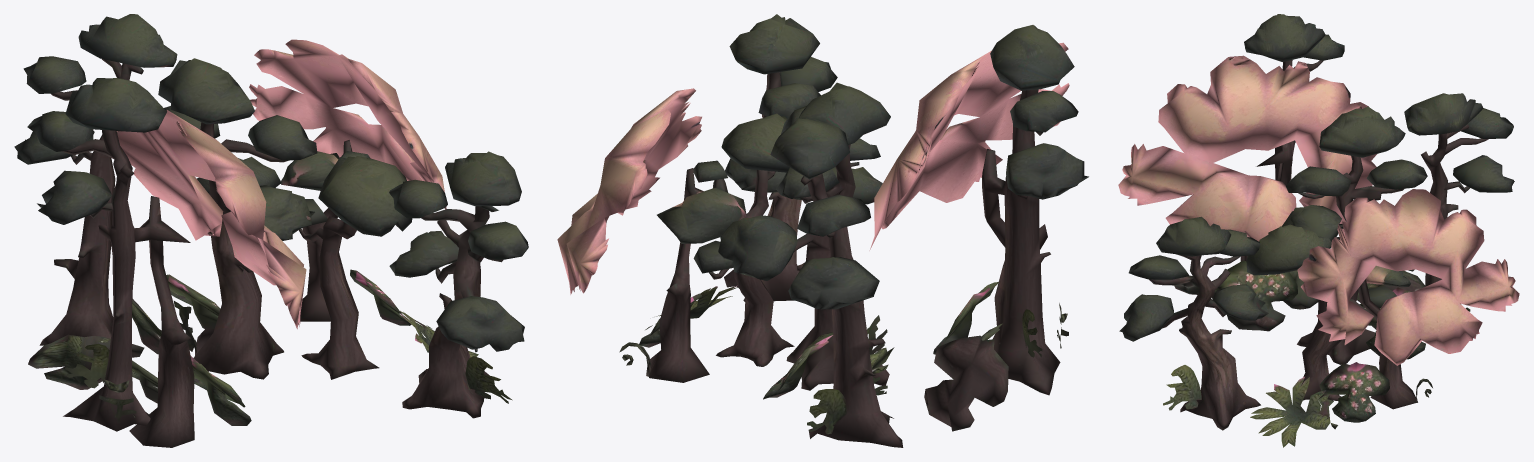
The model's file is mixed_spring_forest_cluster.glb.
3 views of the same model, side by side, from view 1: azimuth 30°, elevation 25°; view 2: azimuth 150°, elevation 25°; view 3: azimuth 270°, elevation 25° (orthographic). The views are drawn at different scales.
Parts seen in each view (by area): view 1: tripo_node_fb7f717c-189a-412e-904e-746299b18ca5; view 2: tripo_node_fb7f717c-189a-412e-904e-746299b18ca5; view 3: tripo_node_fb7f717c-189a-412e-904e-746299b18ca5.
Boxes of the visible parts, left/top/right/bottom form: tripo_node_fb7f717c-189a-412e-904e-746299b18ca5: left=14, top=14, right=528, bottom=447; tripo_node_fb7f717c-189a-412e-904e-746299b18ca5: left=557, top=14, right=1088, bottom=447; tripo_node_fb7f717c-189a-412e-904e-746299b18ca5: left=1118, top=14, right=1519, bottom=447.
Bounding box in the file's own units: 0.9941 × 0.8066 × 0.998.
1 material, 1 textured.
